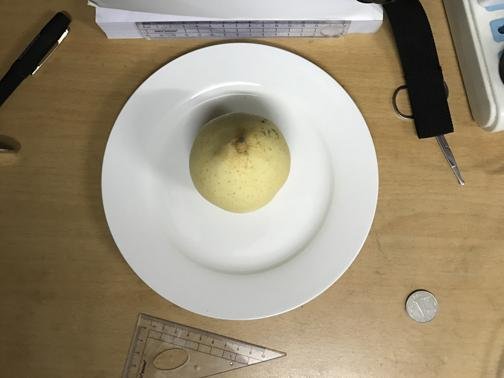coin: (406, 287, 438, 323)
pear: (191, 113, 289, 214)
